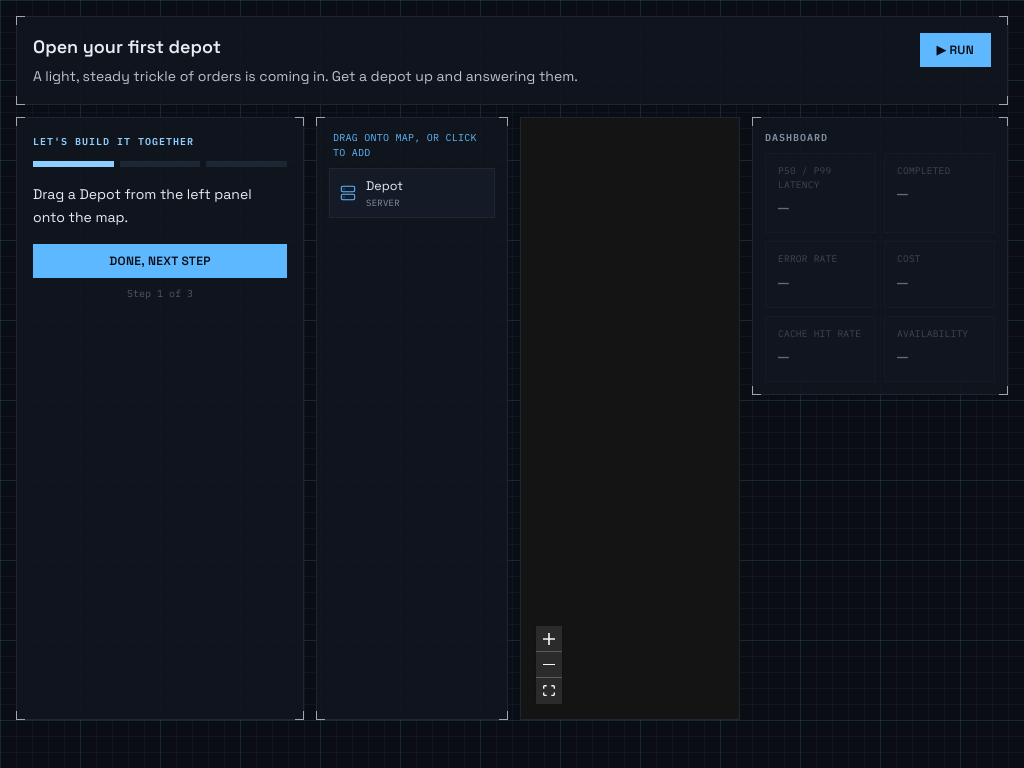
Test: BuildStagePlayer › running the stage transitions the control to "Running…"
The width and height of the screenshot is (1024, 768).
Click the button "▶ Run". click: (955, 50)
box: left=920, top=33, right=991, bottom=67
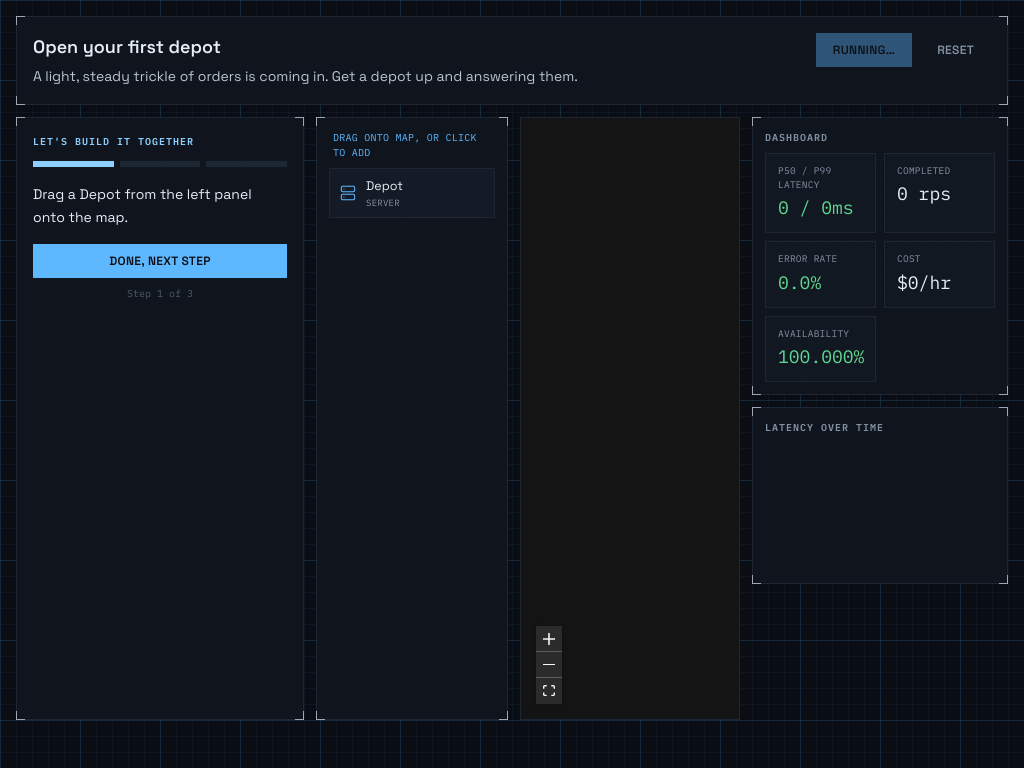
Expected: the button "Running…" is shown, left=816, top=33, right=912, bottom=67
